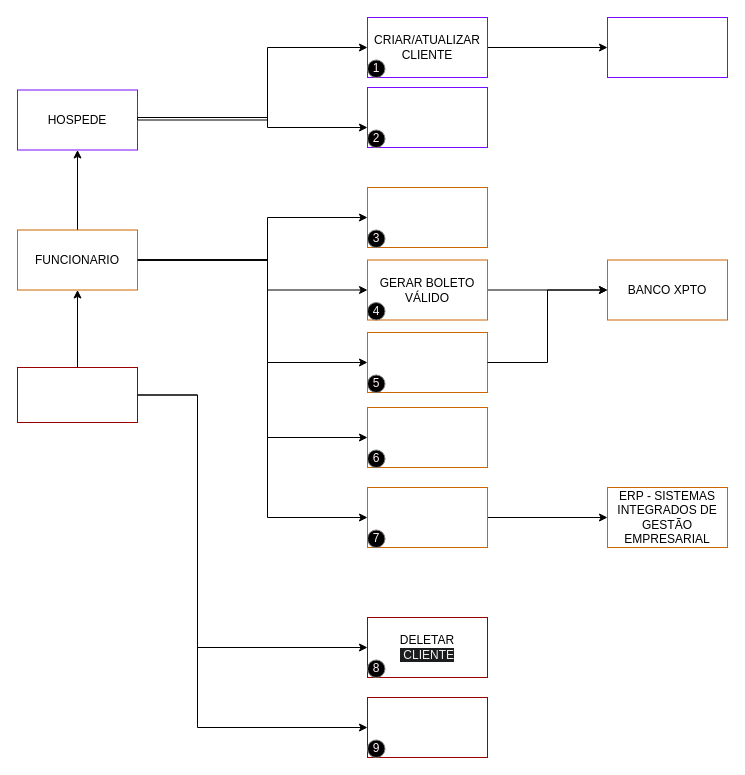
Some shapes in this 745 by 775 pixel diagram are drawn without their labels. The shapes that lost their labels are listed below. From the top down, each one's box as (x1, y1, x2, y2) in pixels, then its label:
(606, 16, 728, 78): RECEITA FEDERAL
(366, 86, 488, 148): CRIAR/ATUALIZAR /DELETAR RESERVA
(366, 186, 488, 248): GERAR CODIGO DE RESERVA/
(366, 332, 488, 392): VALIDAR BOLETO PAGO
(16, 366, 138, 422): ADMINISTRADOR
(366, 406, 488, 468): CRUD DESPESAS NA LANCHONETE
(366, 486, 488, 548): EMISSAO DE NOTA FISCAL
(366, 696, 488, 758): CRUD CASAS DO CONDOMINO
